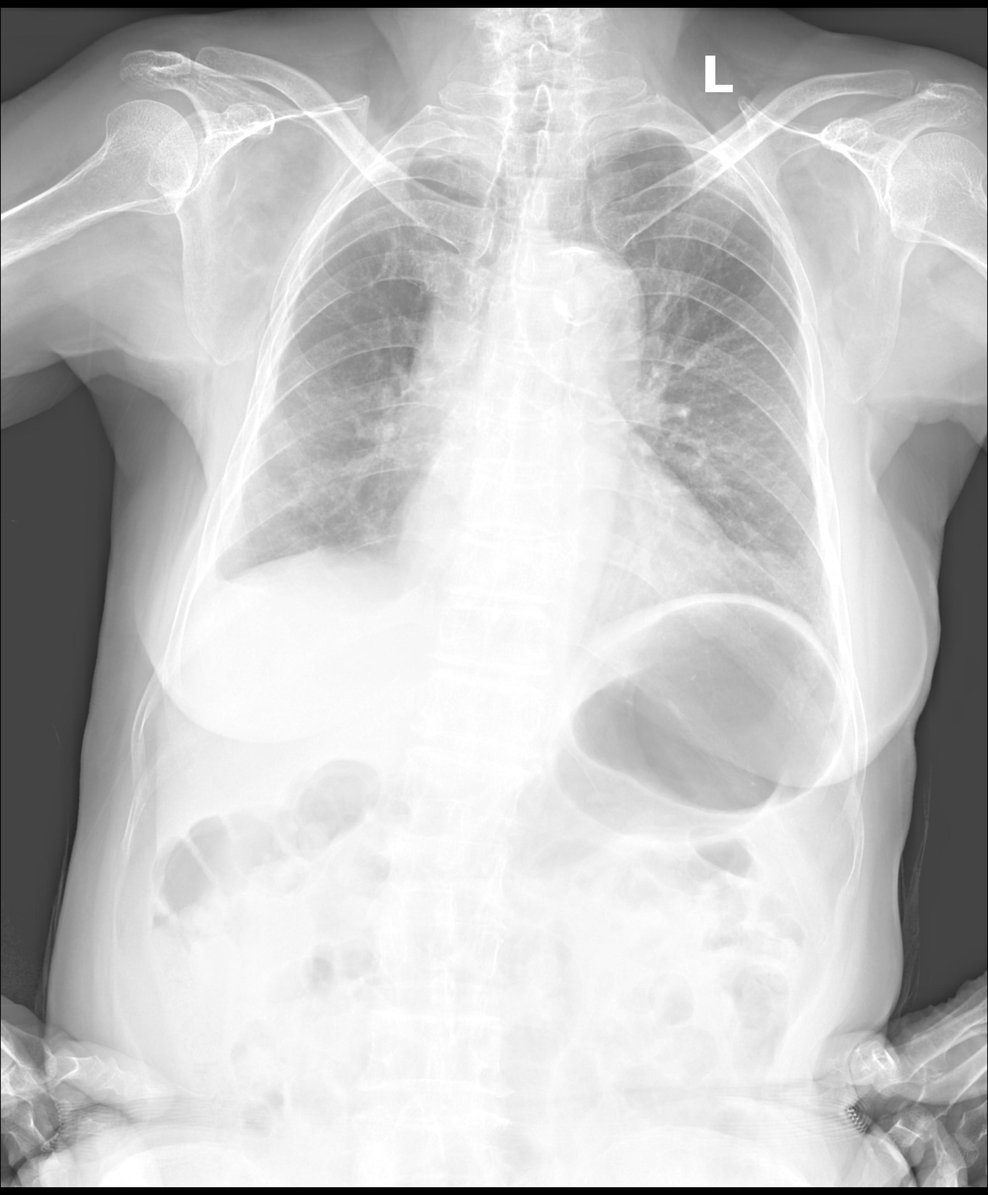Aortic enlargement: (512, 239, 643, 402)
Cardiomegaly: (386, 491, 740, 606)
Pleural thickening: (413, 129, 502, 172)
